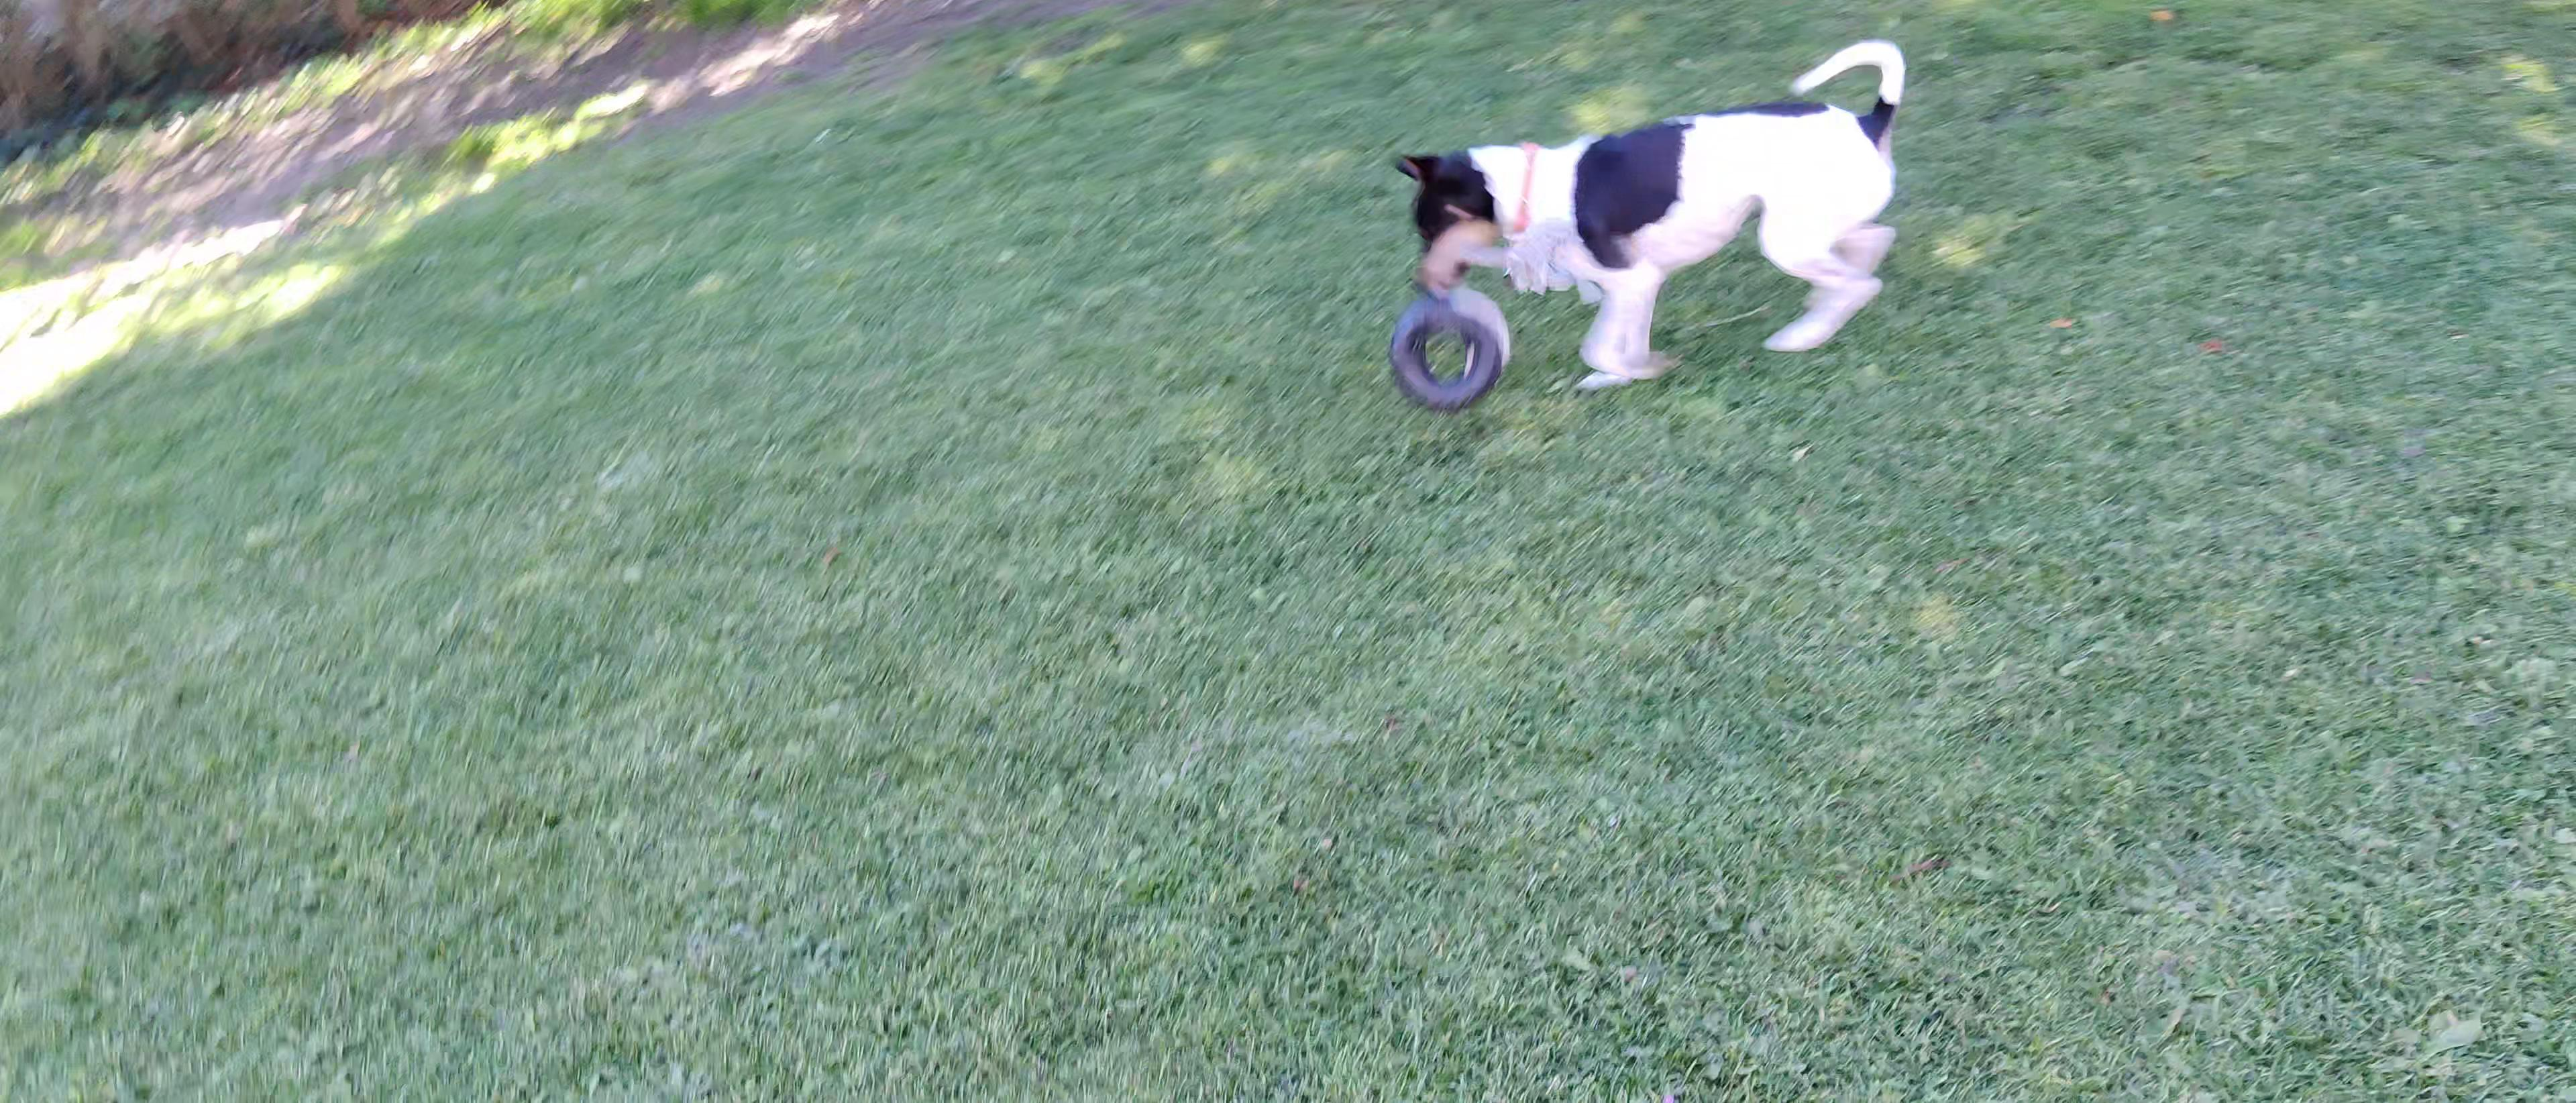Dog: (1382, 28, 1916, 401)
